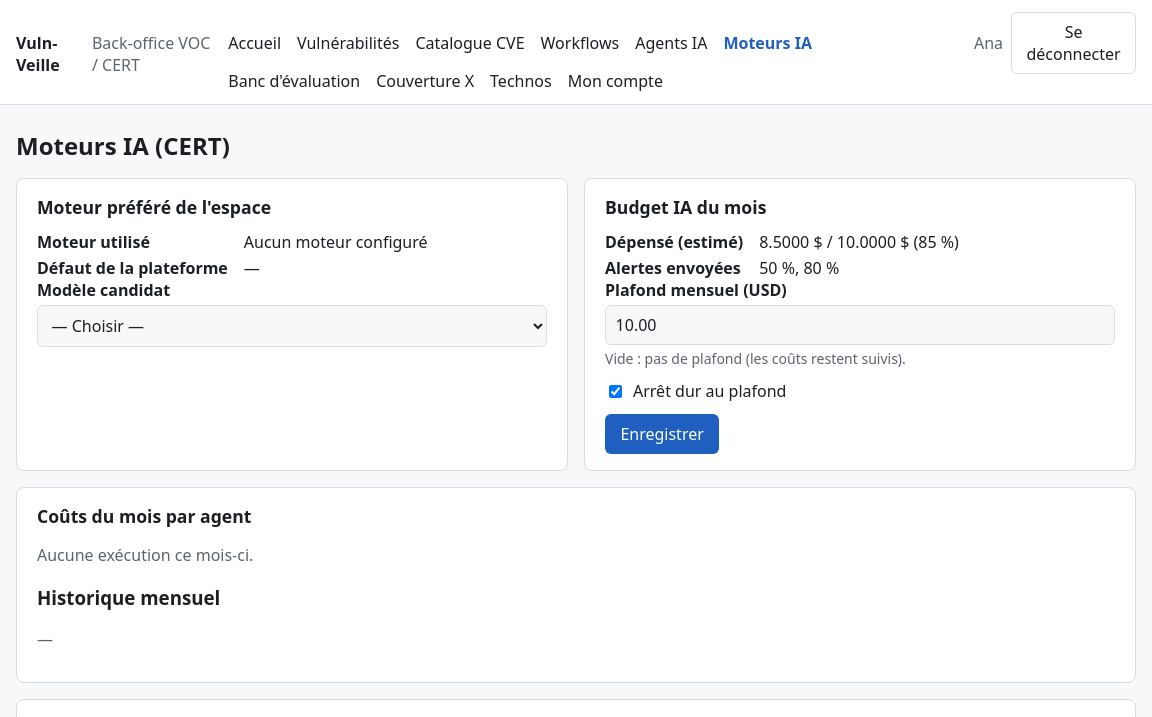
Test: AI screens › blocks the engine switch when the compatibility report says no
Check: the text "8.5000 $ / 10.0000 $ (85 %)" is shown, box top-left (759, 231), bottom-right (959, 253)
Select "LLM · tiny" in the dropdown labelled "Modèle candidat" at (292, 326), box top-left (37, 305), bottom-right (547, 347)
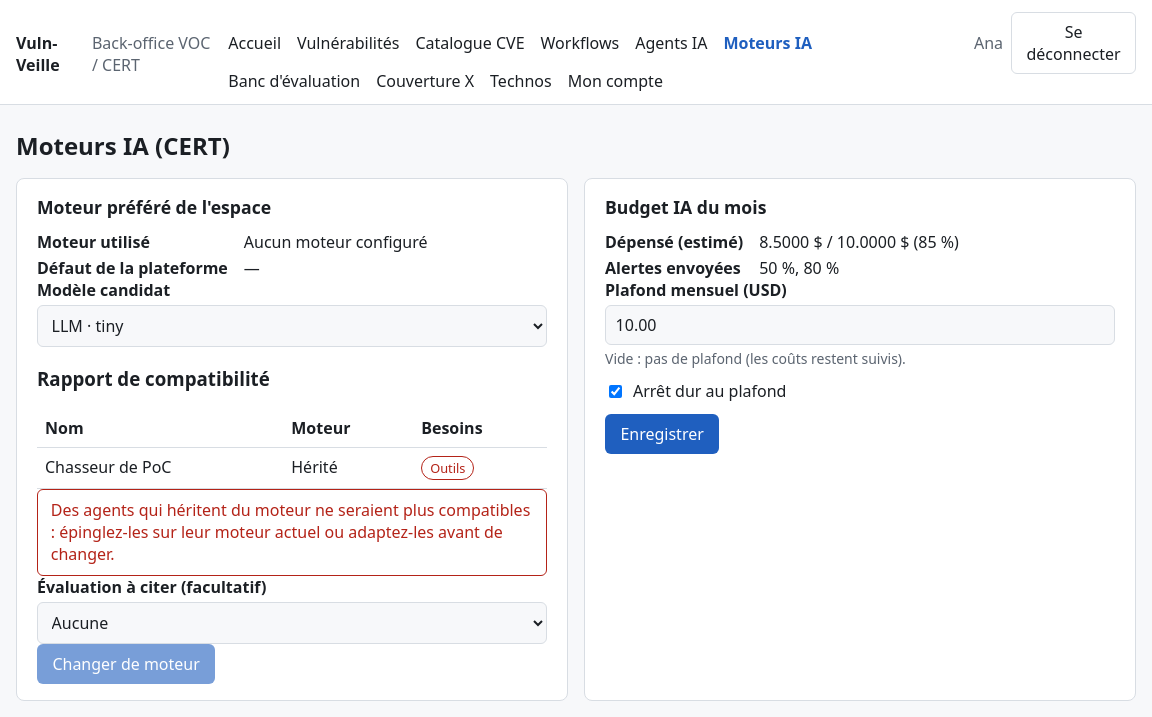
Check: the text "ne seraient plus compatibles" is shown, box top-left (51, 499), bottom-right (530, 565)
Check: the button "Changer de moteur" is disabled, box top-left (37, 644), bottom-right (215, 684)
